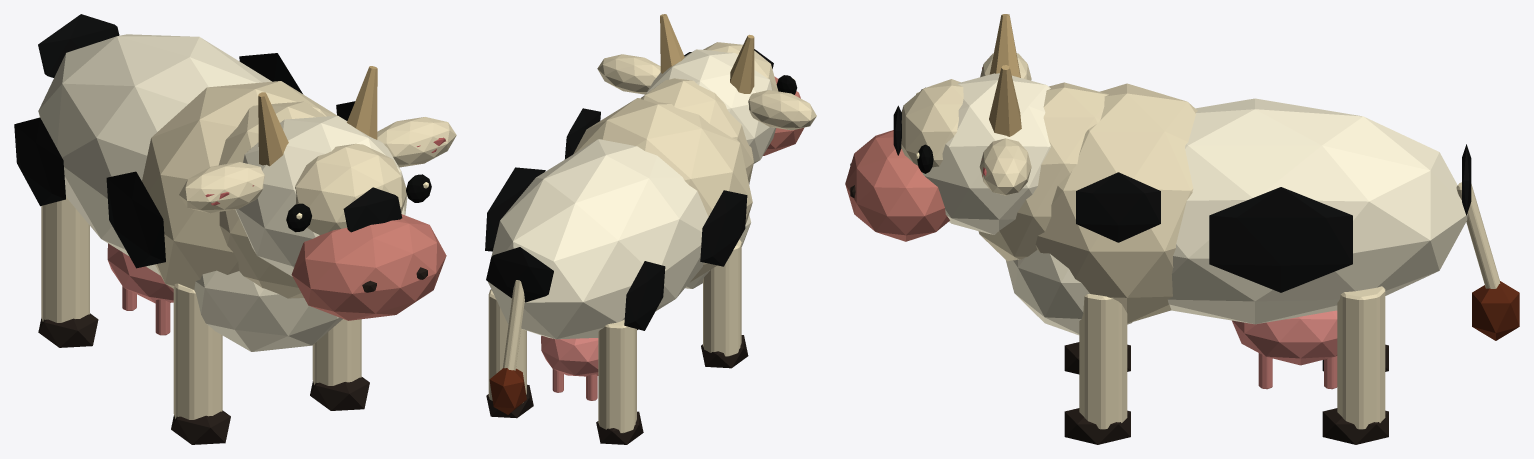
Rendered from Cow.glb.
3 renders of one model, left to right at view 1: azimuth 30°, elevation 25°; view 2: azimuth 150°, elevation 25°; view 3: azimuth 270°, elevation 25°, orthographic. The views are drawn at different scales.
Visible parts, largest first — view 1: Cow_Body, Cow_Shoulders, Cow_Coat_BlackPatches, Cow_Muzzle, Cow_Head, Cow_Chest, Cow_Forehead, Cow_Leg_RR, Cow_Leg_FR, Cow_Neck, Cow_Ear_R, Cow_Leg_FL (+10 smaller); view 2: Cow_Body, Cow_Coat_BlackPatches, Cow_Shoulders, Cow_Head, Cow_Leg_RR, Cow_Leg_FR, Cow_Neck, Cow_Ear_R, Cow_Udder, Cow_Ear_L, Cow_Leg_RL, Cow_TailTuft (+9 smaller); view 3: Cow_Body, Cow_Shoulders, Cow_Coat_BlackPatches, Cow_Head, Cow_Muzzle, Cow_Neck, Cow_Leg_RL, Cow_Leg_FL, Cow_Chest, Cow_Udder, Cow_Forehead, Cow_Ear_L (+7 smaller).
Part boxes in pixels (x1,y1,x2,y2): Cow_Body: (38, 34, 271, 275); Cow_Shoulders: (142, 81, 336, 289); Cow_Coat_BlackPatches: (14, 14, 402, 268); Cow_Muzzle: (291, 214, 446, 320); Cow_Head: (235, 115, 407, 276); Cow_Chest: (194, 270, 342, 351); Cow_Forehead: (295, 143, 406, 234); Cow_Leg_RR: (41, 196, 89, 322); Cow_Leg_FR: (173, 283, 222, 419); Cow_Neck: (219, 101, 324, 298); Cow_Ear_R: (179, 162, 264, 213); Cow_Leg_FL: (312, 319, 361, 385); Cow_Body: (488, 139, 708, 339); Cow_Coat_BlackPatches: (485, 49, 773, 330); Cow_Shoulders: (573, 98, 752, 282); Cow_Head: (646, 49, 775, 163); Cow_Leg_RR: (598, 319, 636, 433); Cow_Leg_FR: (703, 239, 741, 356); Cow_Neck: (641, 78, 753, 184); Cow_Ear_R: (748, 90, 816, 130); Cow_Udder: (541, 335, 598, 376); Cow_Ear_L: (597, 54, 660, 94); Cow_Leg_RL: (488, 289, 526, 402); Cow_TailTuft: (489, 368, 526, 414); Cow_Body: (1168, 98, 1467, 324); Cow_Shoulders: (1035, 83, 1197, 323); Cow_Coat_BlackPatches: (893, 105, 1471, 292); Cow_Head: (922, 73, 1050, 234); Cow_Muzzle: (845, 130, 949, 241); Cow_Neck: (978, 82, 1108, 261); Cow_Leg_RL: (1337, 286, 1385, 429); Cow_Leg_FL: (1079, 294, 1127, 429); Cow_Chest: (1006, 250, 1132, 335); Cow_Udder: (1232, 310, 1337, 365); Cow_Forehead: (901, 79, 963, 167); Cow_Ear_L: (979, 138, 1031, 195).
Bounding box in the file's own units: 1.4 × 1.89 × 3.11.
